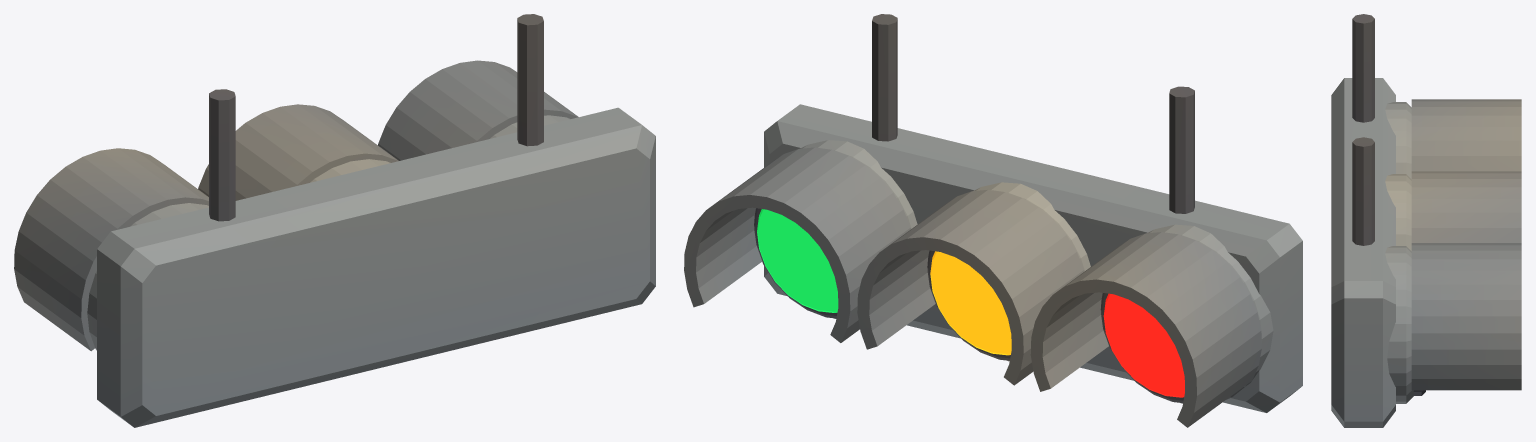
Rendered from ART_Signal_Car.lod.glb.
3 views of the same model, side by side, from view 1: azimuth 30°, elevation 25°; view 2: azimuth 150°, elevation 25°; view 3: azimuth 270°, elevation 25° (orthographic). The views are drawn at different scales.
Visible parts, largest first — view 1: ART_Signal_Car; view 2: ART_Signal_Car; view 3: ART_Signal_Car.
Boxes of the visible parts, bbox=[...] form: ART_Signal_Car: bbox=[14, 14, 655, 427]; ART_Signal_Car: bbox=[684, 14, 1302, 427]; ART_Signal_Car: bbox=[1331, 14, 1521, 427].
Size of the model in its own units: 1.25 by 0.67 by 0.47.
